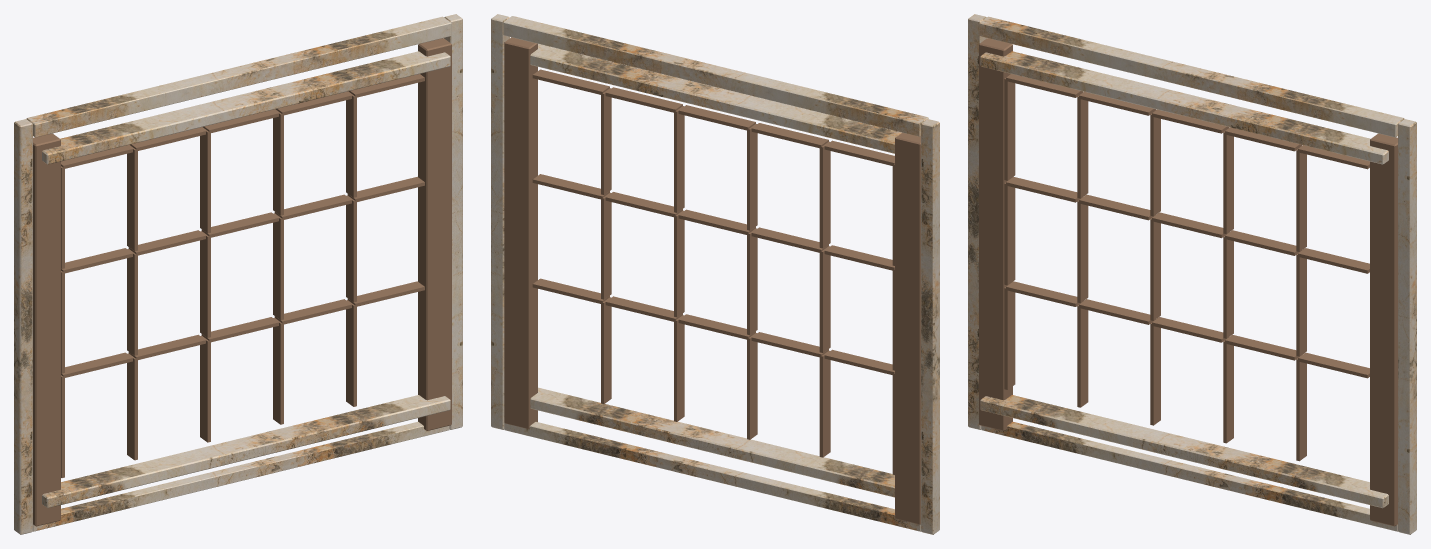
The model's file is facade_compound_gate_upper.glb.
The picture shows the model from 3 angles, left to right: view 1: azimuth 30°, elevation 25°; view 2: azimuth 150°, elevation 25°; view 3: azimuth 330°, elevation 25°; orthographic projection.
Parts seen in each view (by area): view 1: facade_compound_gate_upper__VVK_masonry, facade_compound_gate_upper__VVK_concrete_CC0; view 2: facade_compound_gate_upper__VVK_masonry, facade_compound_gate_upper__VVK_concrete_CC0; view 3: facade_compound_gate_upper__VVK_masonry, facade_compound_gate_upper__VVK_concrete_CC0.
Boxes of the visible parts, x1,y1,x2,y2 form: facade_compound_gate_upper__VVK_masonry: [33, 38, 451, 526]; facade_compound_gate_upper__VVK_concrete_CC0: [14, 14, 462, 534]; facade_compound_gate_upper__VVK_masonry: [504, 37, 920, 524]; facade_compound_gate_upper__VVK_concrete_CC0: [491, 14, 939, 534]; facade_compound_gate_upper__VVK_masonry: [979, 38, 1397, 526]; facade_compound_gate_upper__VVK_concrete_CC0: [968, 14, 1416, 534].
Size of the model in its own units: 3.4 by 3 by 0.198.
2 materials, 1 textured.
